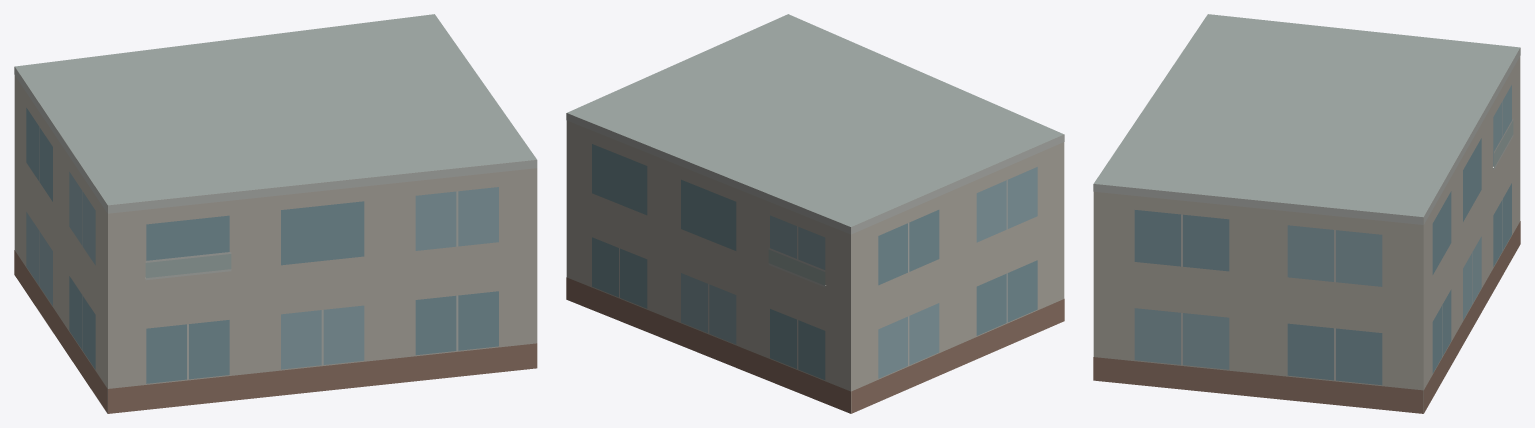
Rendered from survey-upis-32572586.glb.
3 views of the same model, side by side, from view 1: azimuth 30°, elevation 25°; view 2: azimuth 150°, elevation 25°; view 3: azimuth 270°, elevation 25° (orthographic). The views are drawn at different scales.
Parts seen in each view (by area): view 1: survey-upis-32572586.tmp; view 2: survey-upis-32572586.tmp; view 3: survey-upis-32572586.tmp.
Part boxes in pixels (x1,y1,x2,y2): survey-upis-32572586.tmp: (14,14,537,413); survey-upis-32572586.tmp: (566,14,1064,413); survey-upis-32572586.tmp: (1093,14,1520,413).
Size of the model in its own units: 13.53 by 6.1 by 12.01.
